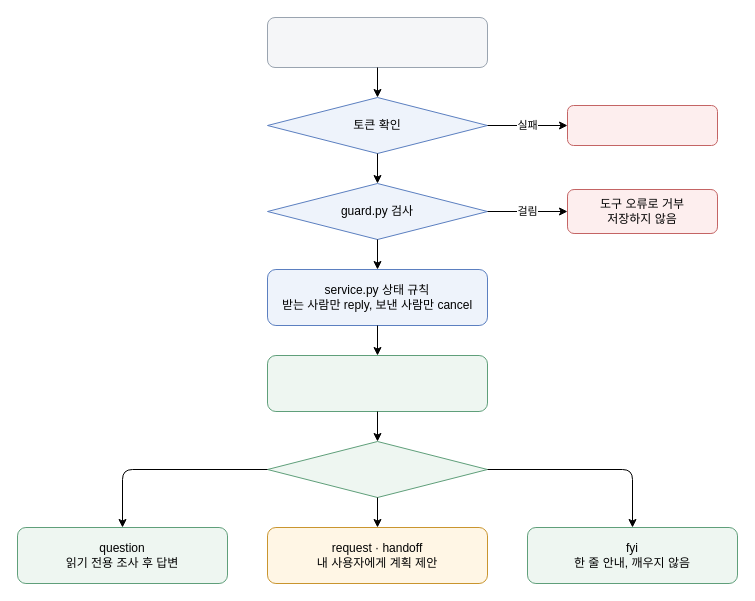
Some shapes in this 755 by 601 pixel diagram are drawn without their labels. Here are the shapes that lost their labels. From the top down, the centre of each, then its label:
At pixel 377 42: "들어오는 요청 POST /mcp, /api/*".
At pixel 642 125: "401 거부".
At pixel 377 383: "받는 세션: 메시지는 데이터 권한 승인으로 쓰지 않음".
At pixel 377 469: "종류 판단".
